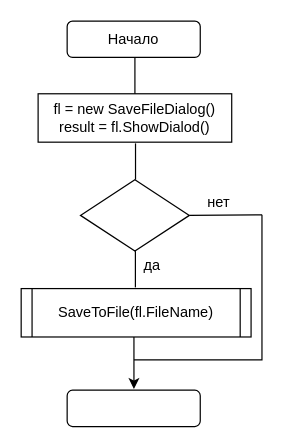
Some shapes in this 284 by 448 pixel diagram are drawn without their labels. Each missing label, with the centre of its shape:
"result == true" belongs at (134,214).
"Конец" belongs at (133,408).
